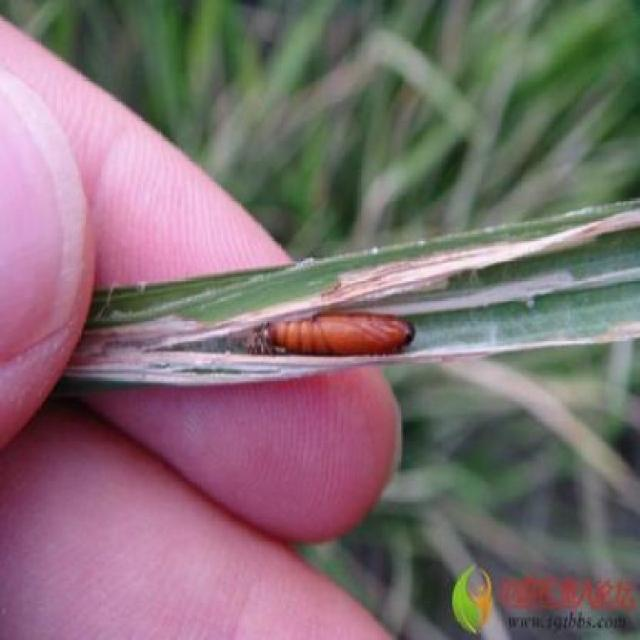leaf-folder: (255, 291, 422, 380)
